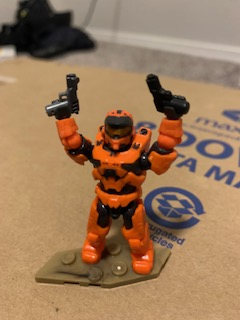pistol: (136, 72, 191, 121), (42, 72, 88, 123)
spartan: (50, 97, 185, 278)
up: (50, 98, 184, 194)
